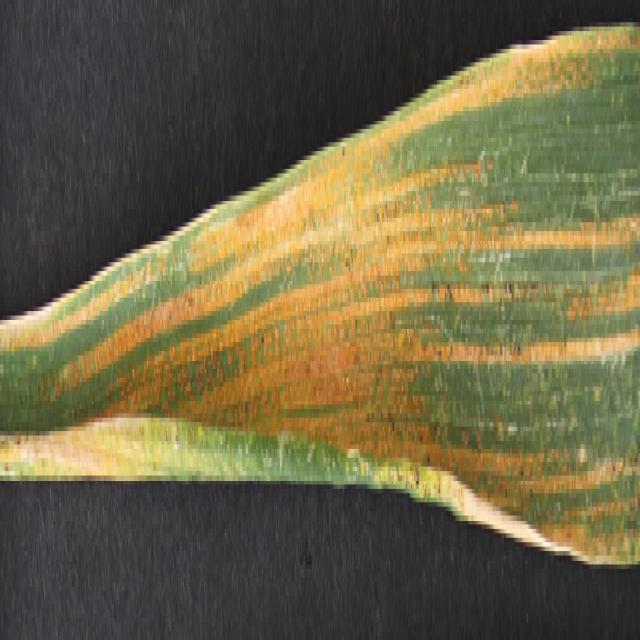leaf rust: (69, 4, 640, 556)
